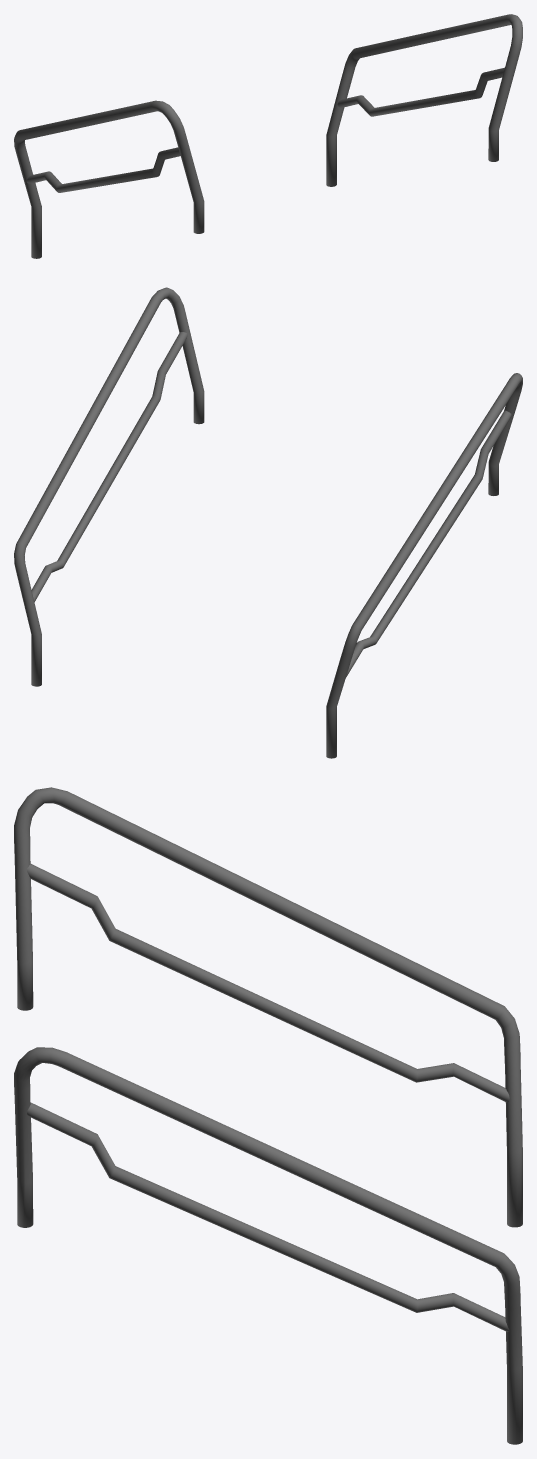
The model's file is sf_stair_rails.glb.
3 renders of one model, top to bottom at view 1: azimuth 30°, elevation 25°; view 2: azimuth 150°, elevation 25°; view 3: azimuth 270°, elevation 25°, orthographic. The views are drawn at different scales.
Visible parts, largest first — view 1: Platform_Rails_2; view 2: Platform_Rails_2; view 3: Platform_Rails_2.
Part boxes in pixels (x1,y1,x2,y2): Platform_Rails_2: [14, 14, 522, 258]; Platform_Rails_2: [14, 287, 522, 758]; Platform_Rails_2: [14, 787, 522, 1444].
Bounding box in the file's own units: 2.36 × 1.7 × 1.89.
Materials: 1 (1 with a texture image).
